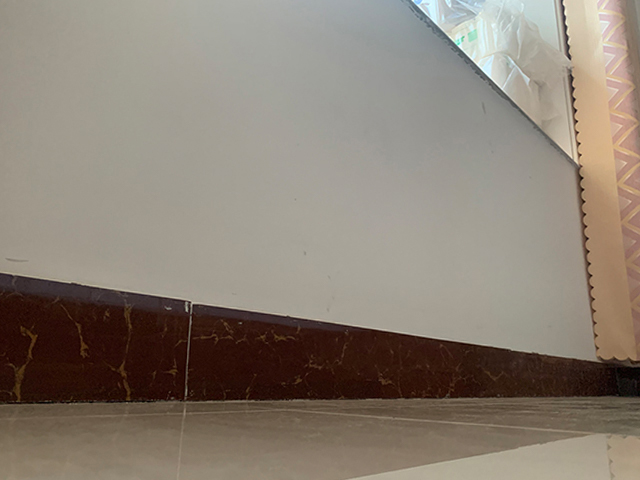curtain: (561, 1, 640, 364)
